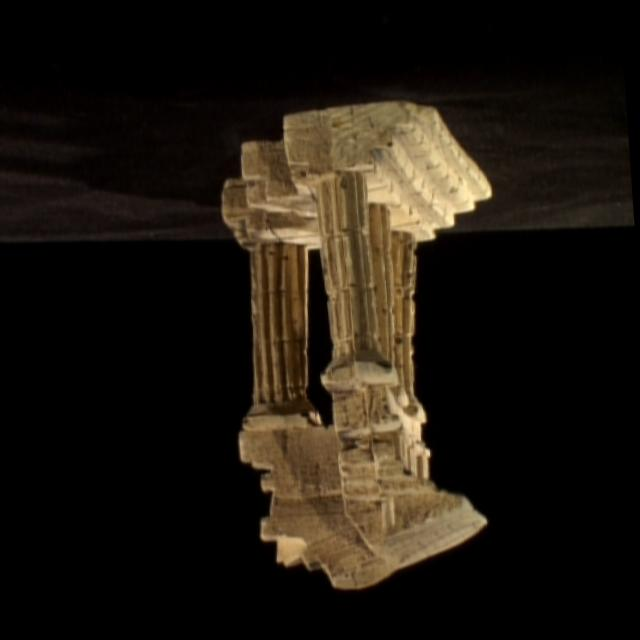Instance-Segmentation: (223, 102, 490, 586)
